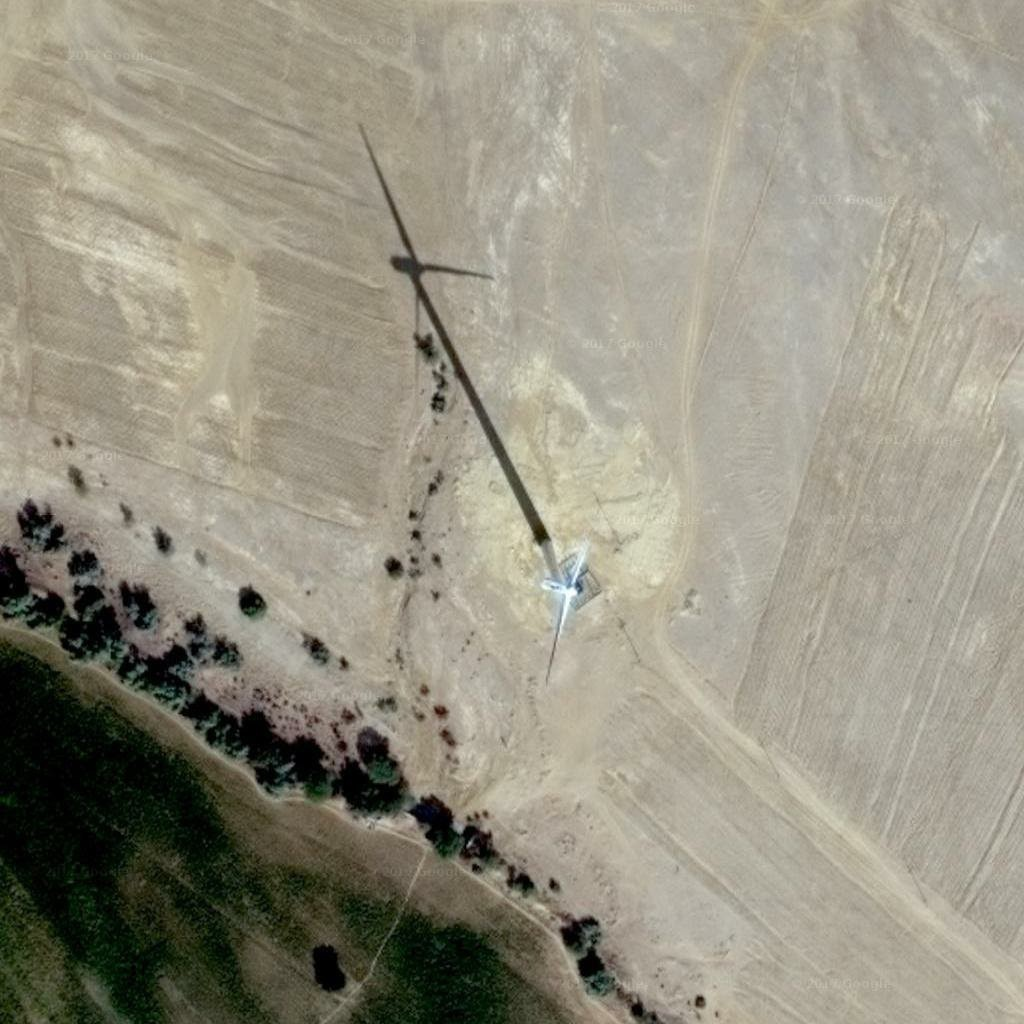Windmill: (342, 121, 567, 542)
